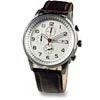watch: (23, 13, 81, 73)
